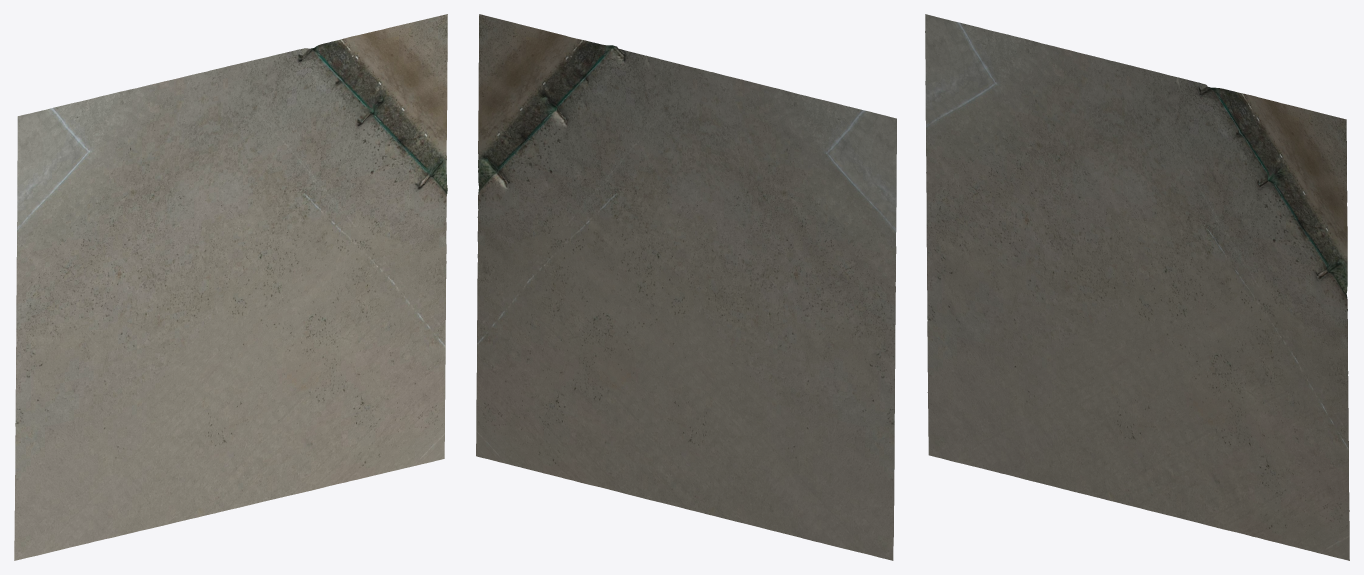
The model's file is Tile_+021_+012.fbx.
3 renders of one model, left to right at view 1: azimuth 30°, elevation 25°; view 2: azimuth 150°, elevation 25°; view 3: azimuth 330°, elevation 25°, orthographic.
Visible parts, largest first — view 1: DefaultName; view 2: DefaultName; view 3: DefaultName.
Part boxes in pixels (x1,y1,x2,y2): DefaultName: (14,14,447,560); DefaultName: (476,14,896,560); DefaultName: (925,14,1349,560).
Bounding box in the file's own units: 22.54 × 22.54 × 0.7828.
